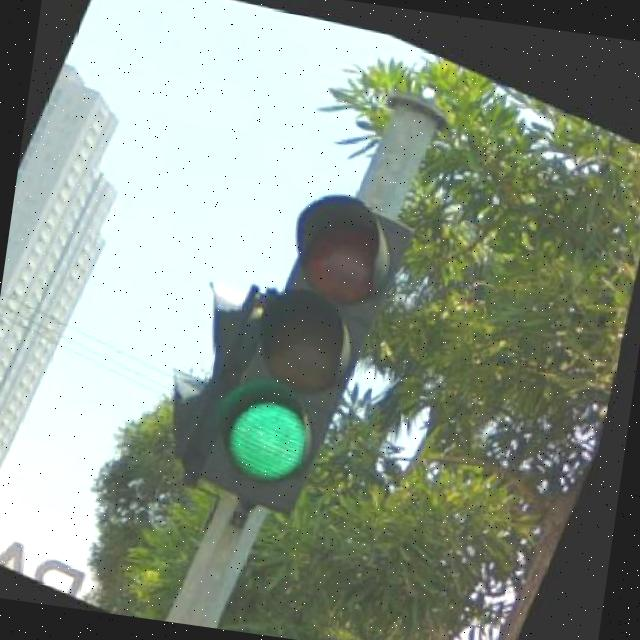green_light: (188, 160, 426, 534)
